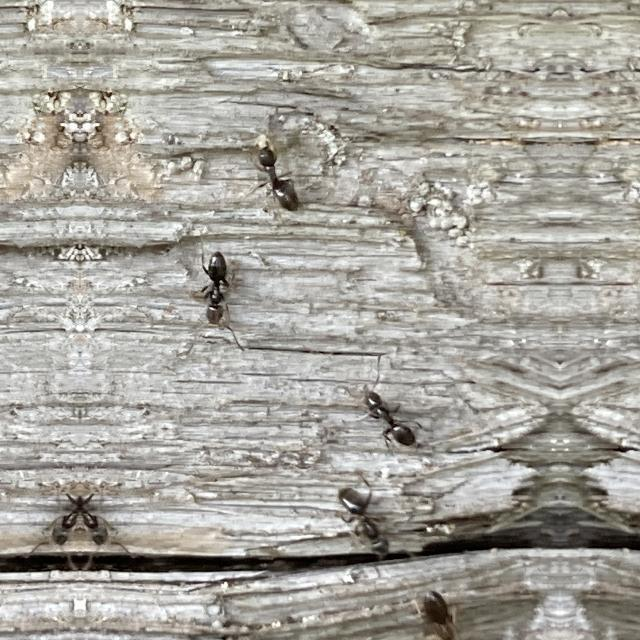Tapinoma: (190, 240, 244, 346), (332, 474, 392, 562), (358, 376, 422, 454), (248, 132, 302, 216), (412, 580, 471, 640), (80, 470, 112, 550), (48, 470, 80, 550)
